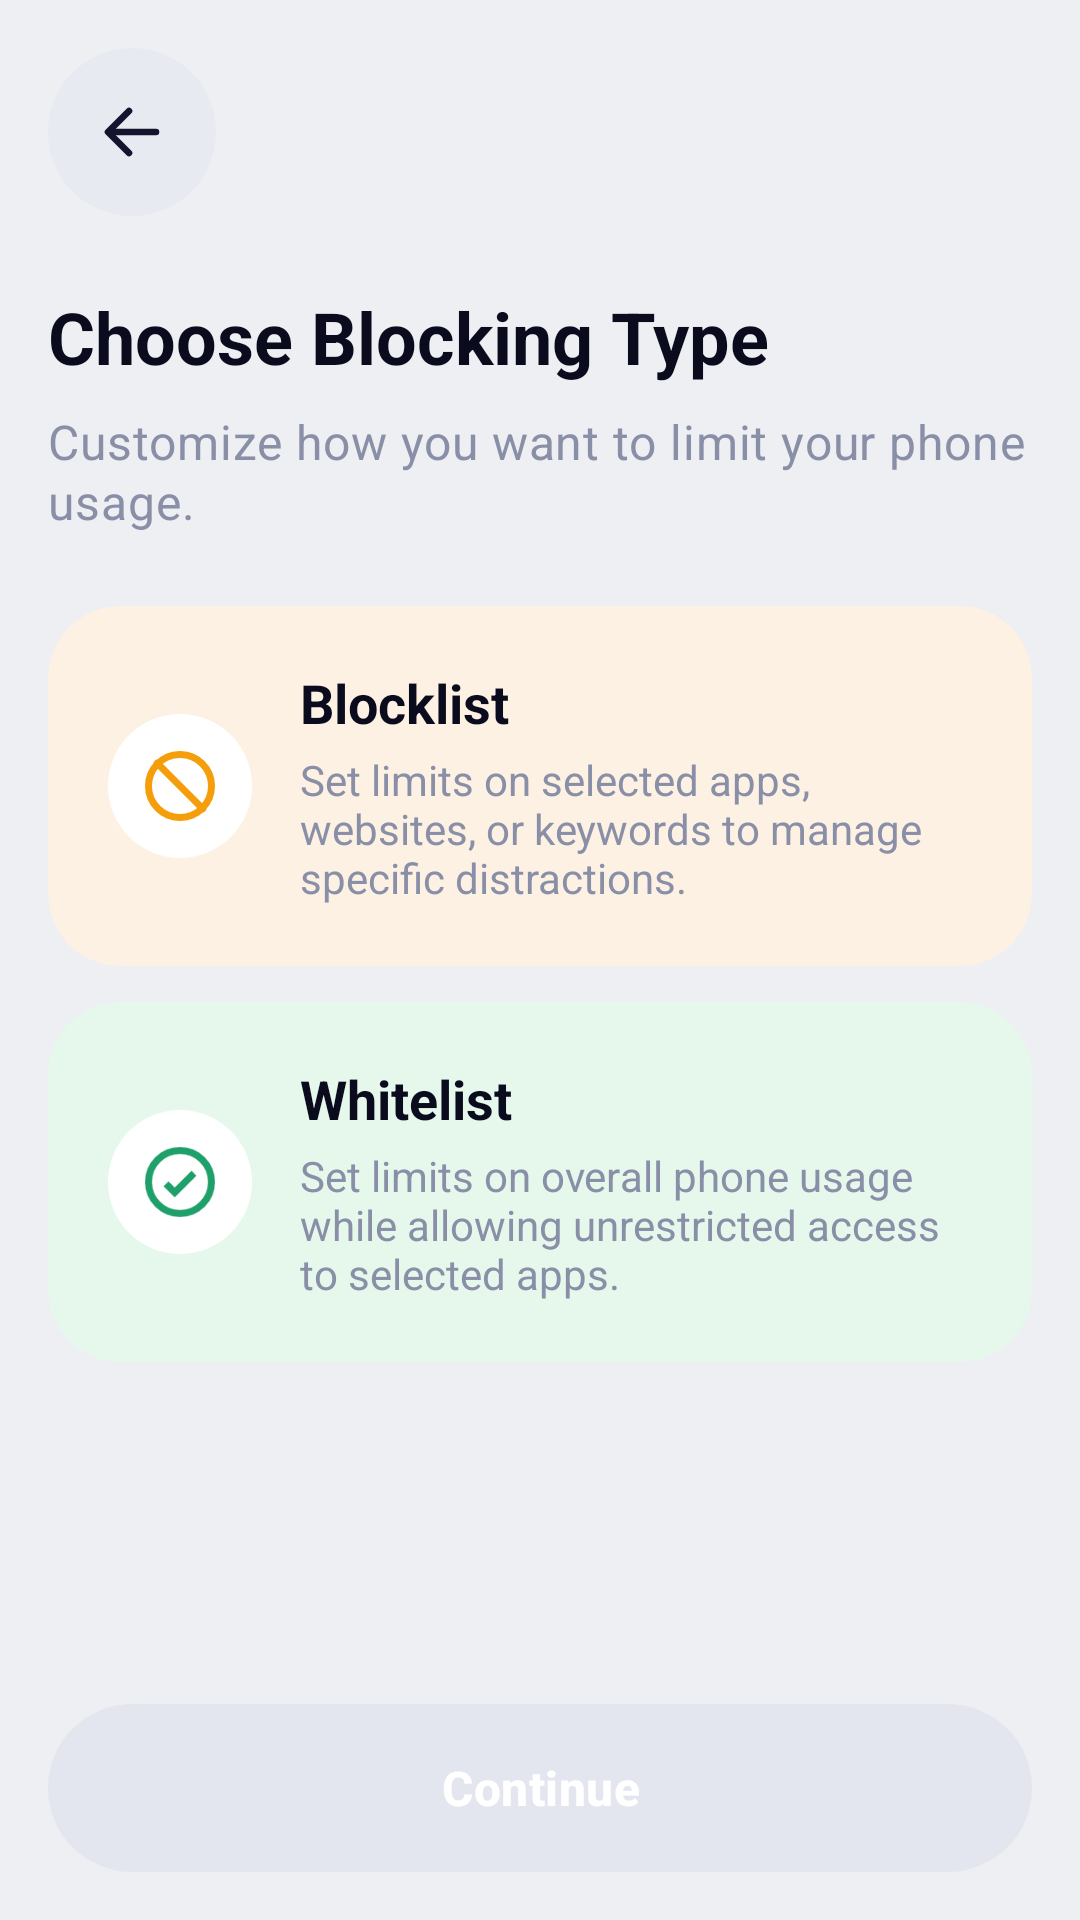

Where icons sit on this 1080 x 1920 app screen, as [x1, y1, x2, y2]:
Back: [104, 107, 160, 157]
ban: [108, 714, 252, 858]
check circle: [108, 1110, 252, 1253]
